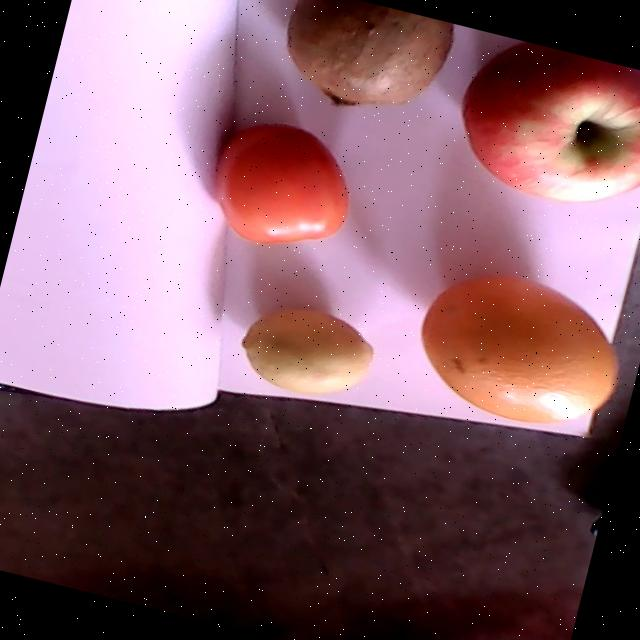apple: (460, 41, 640, 200)
kiwi: (287, 0, 451, 106)
lemon: (242, 309, 371, 394)
orange: (422, 275, 615, 422)
tomato: (215, 122, 349, 244)
